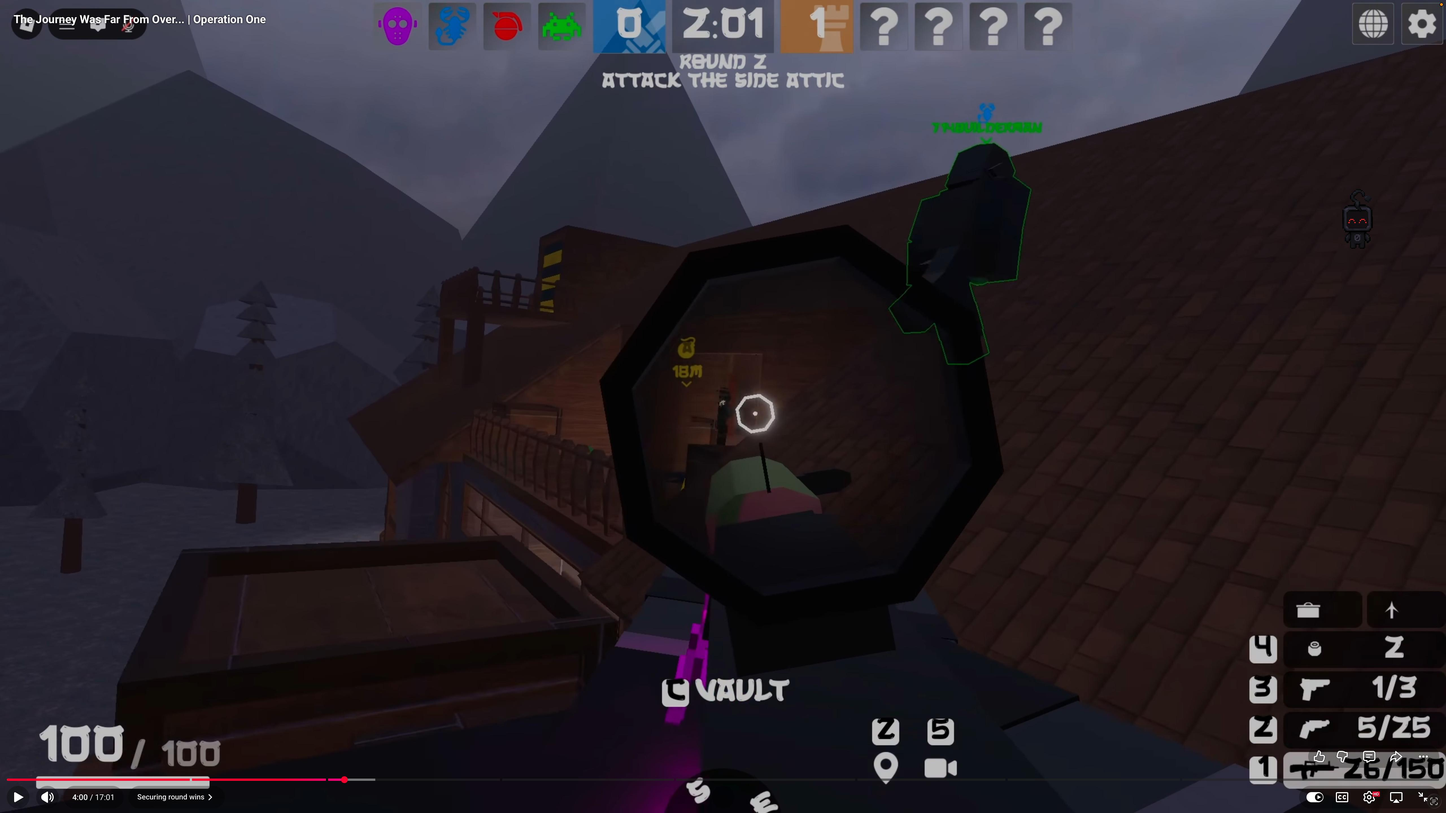enemy: (713, 385, 735, 450)
